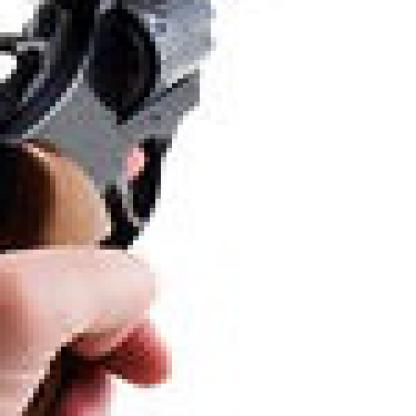gun: (0, 0, 345, 412)
